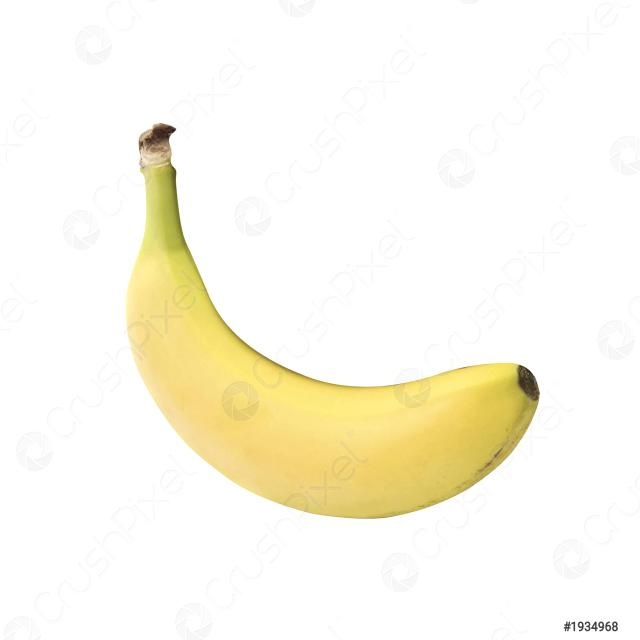agrume: (123, 118, 541, 524)
